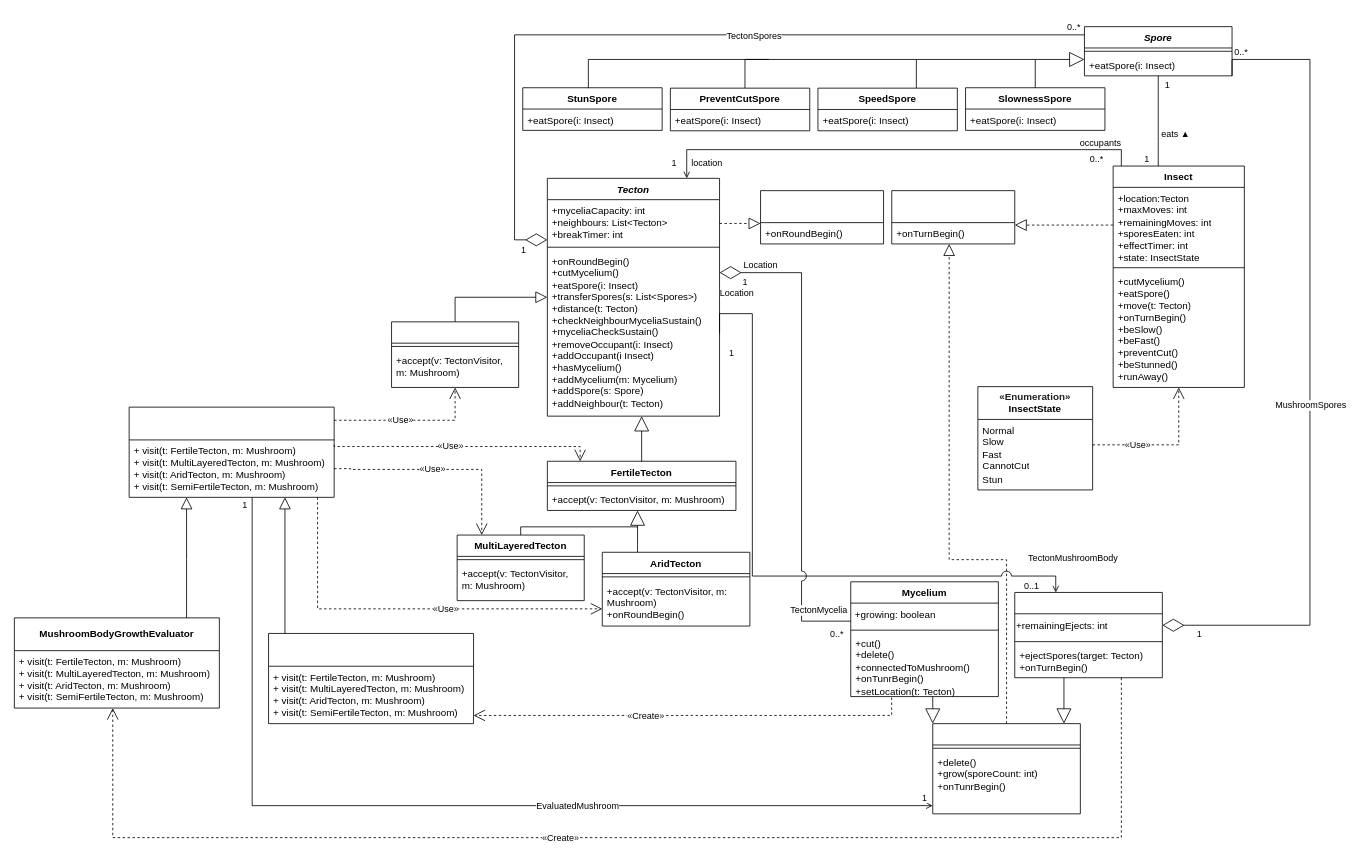
This 1360x863 diagram has some shape labels left out. Here are the shapes that lost their labels. From the top down, the box of each, then its label:
(760, 190, 884, 244): « Interface » RoundBeginSubscriber
(891, 190, 1015, 244): « Interface » TurnBeginSubscriber
(391, 321, 519, 387): SemiFertileTecton
(128, 406, 334, 497): TectonVisitor
(1014, 592, 1162, 678): MushroomBody
(268, 633, 474, 724): MyceliumGrowthEvaluator
(932, 723, 1080, 814): Mushroom
